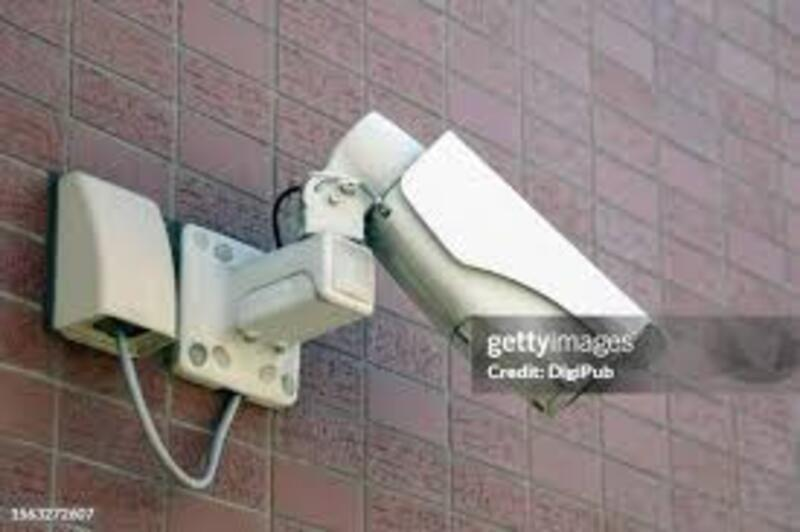box: (314, 239, 530, 532)
